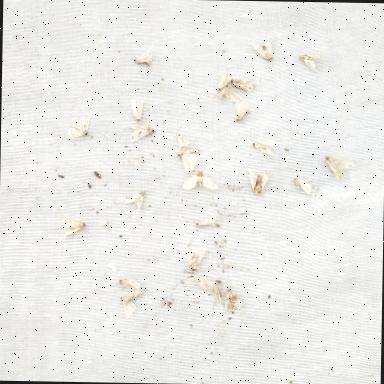pbw: (324, 154, 356, 180), (181, 170, 219, 191), (119, 288, 142, 318), (66, 113, 90, 140), (176, 148, 201, 173), (184, 246, 206, 274), (195, 278, 222, 299), (248, 170, 270, 194), (222, 286, 242, 312), (60, 216, 86, 236), (128, 124, 155, 142), (250, 38, 272, 60), (215, 85, 244, 101), (299, 54, 324, 72), (125, 190, 145, 210), (134, 47, 153, 66), (231, 78, 256, 92), (130, 98, 144, 122), (292, 177, 311, 194), (235, 99, 249, 122), (252, 142, 274, 155), (194, 214, 216, 226), (118, 278, 140, 290), (218, 72, 232, 90), (176, 134, 190, 148)
